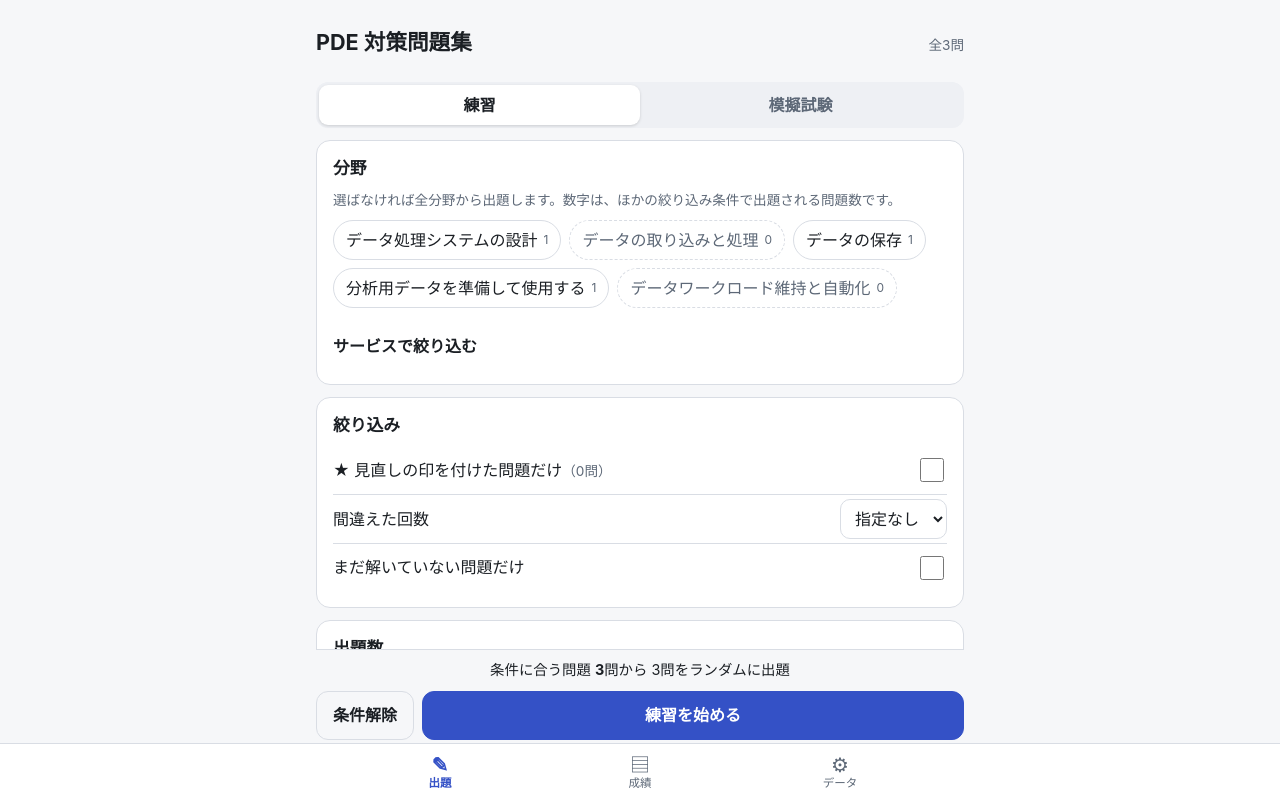
it: 練習モード › 前の問題に戻ると、回答済みの結果と解説をもう一度見られる
The width and height of the screenshot is (1280, 800).
Click the button "練習を始める" at x=693, y=715, box [422,691,964,740]
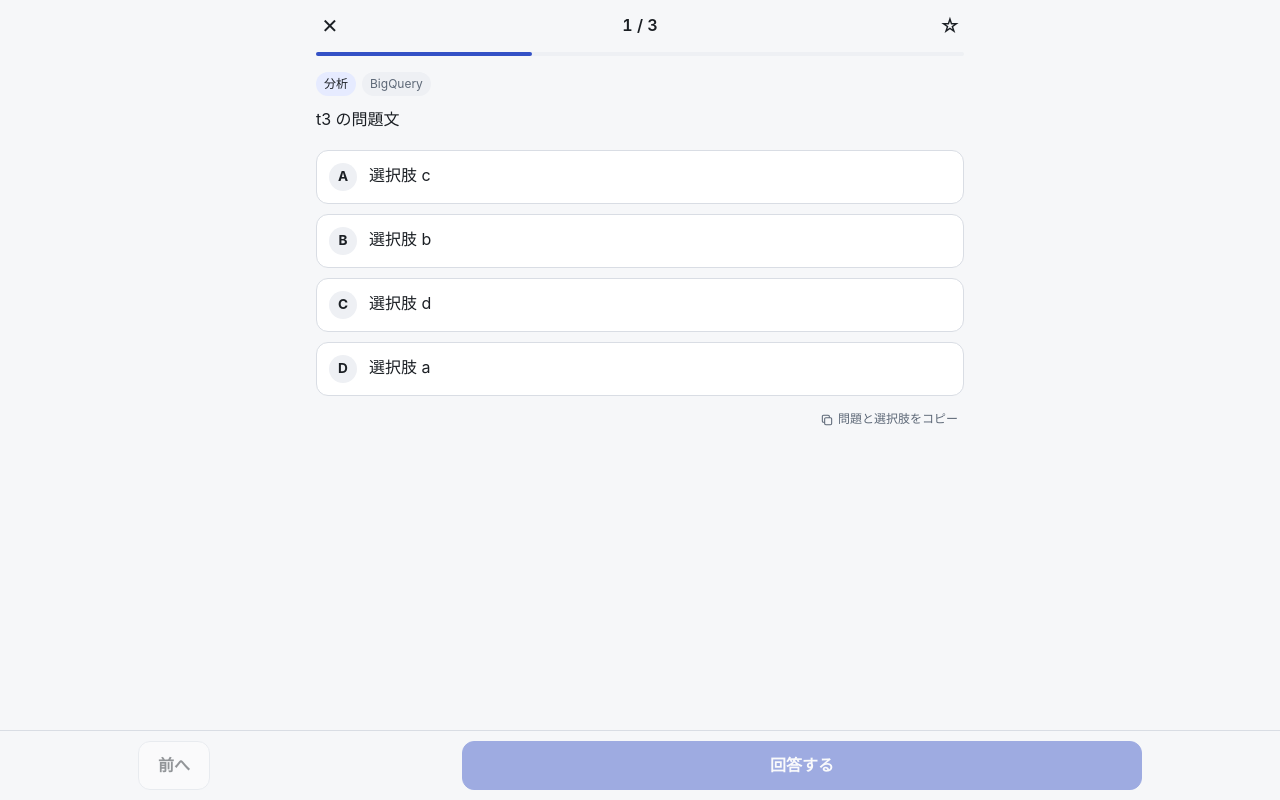
Expected: the button "前へ" is disabled, [138,741,210,790]
Click the button "D 選択肢 a" at x=400, y=367, box [316,342,964,396]
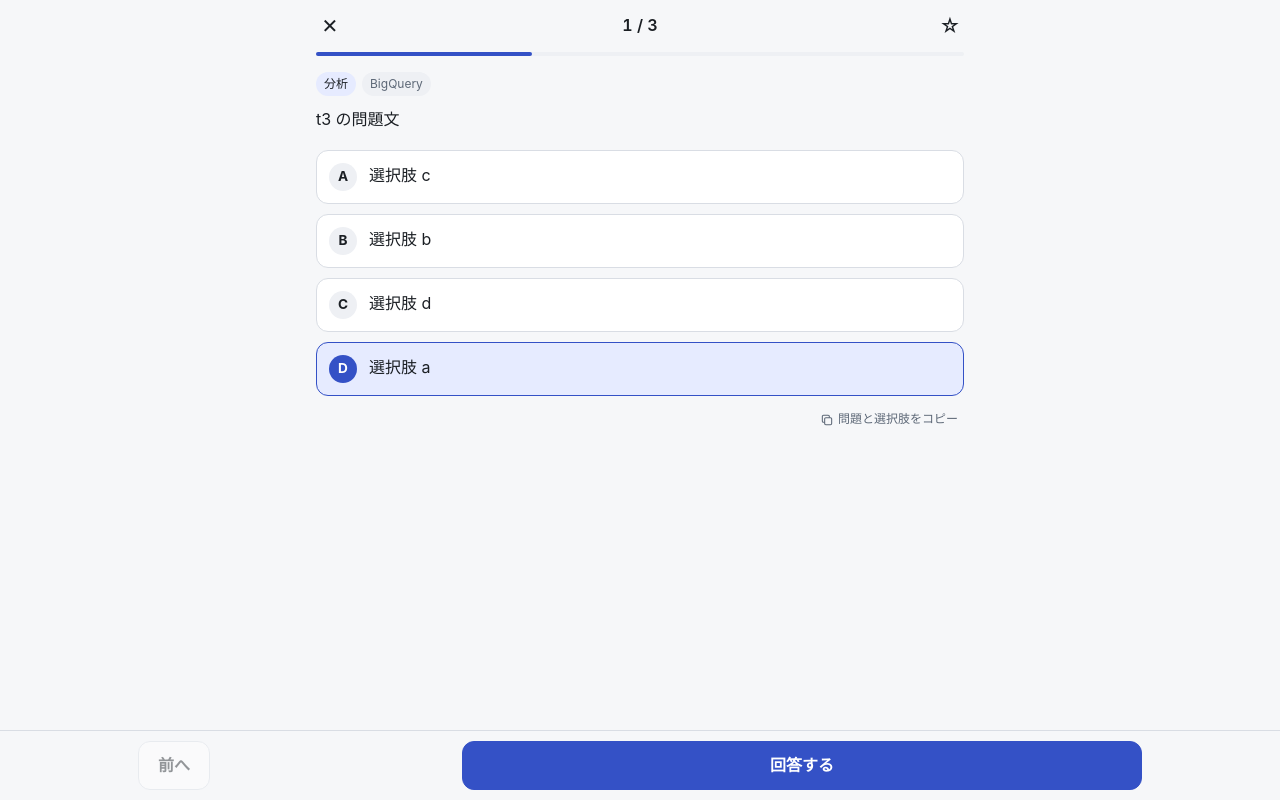
Click the button "回答する" at x=802, y=765, box [462,741,1142,790]
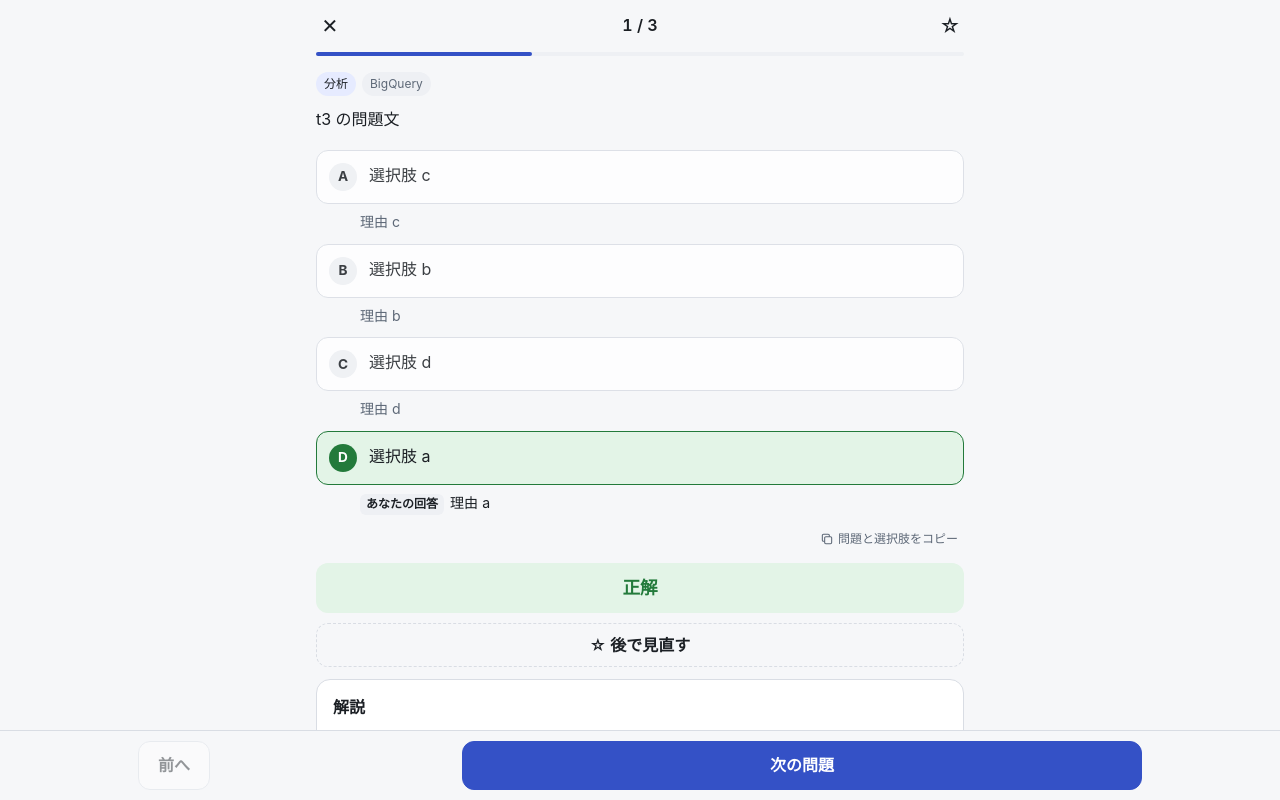
Click the button "次の問題" at x=802, y=765, box [462,741,1142,790]
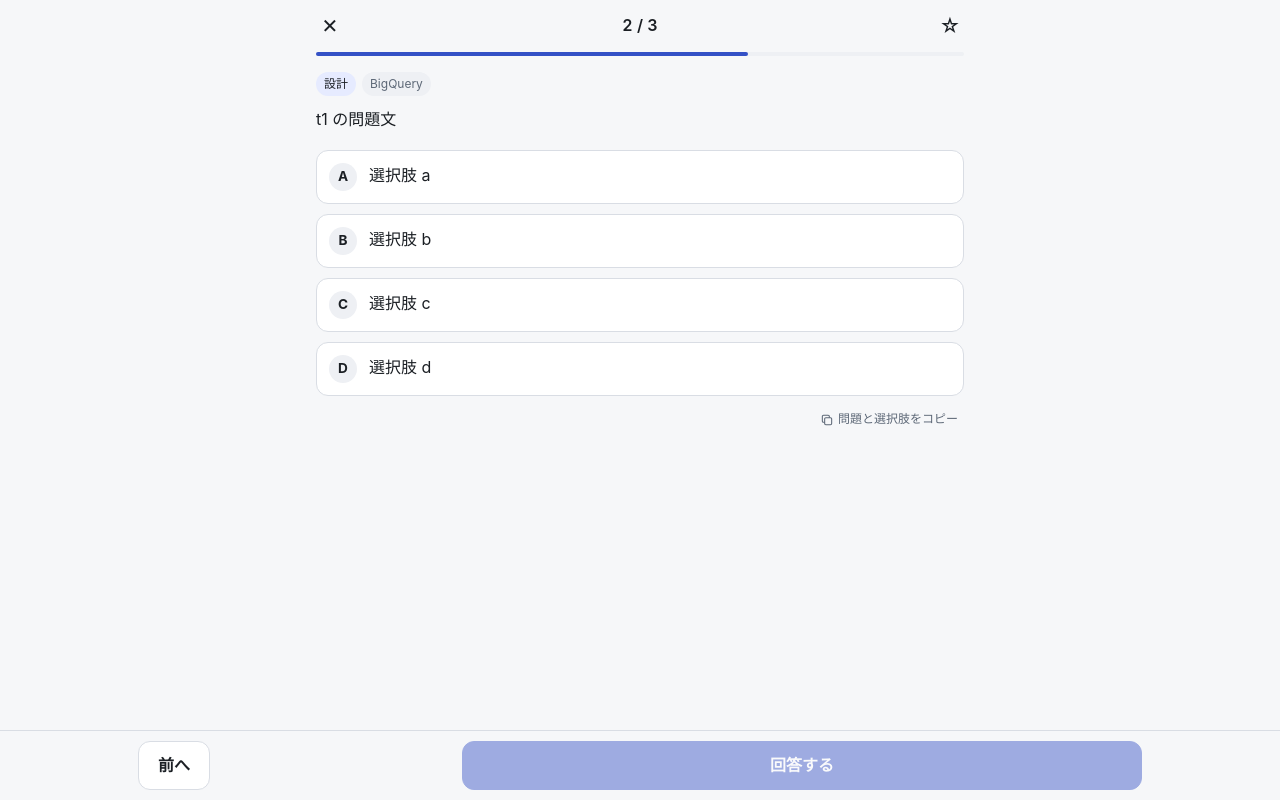
Expected: the text "2 / 3" is shown, [622,12,658,40]
Click the button "前へ" at x=174, y=765, box [138,741,210,790]
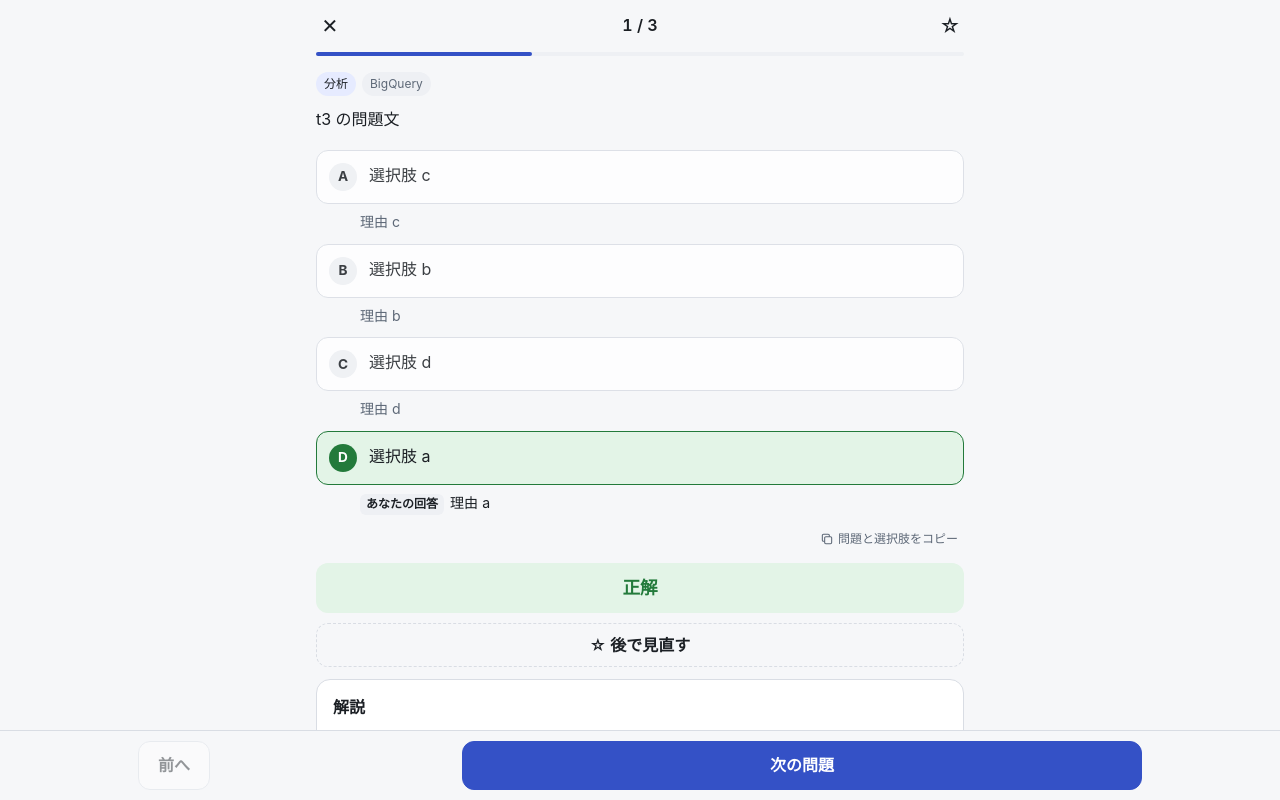
Expected: the text "1 / 3" is shown, [622,12,658,40]
Expected: the message reads "正解", [622,577,658,598]
Click the button "次の問題" at x=802, y=765, box [462,741,1142,790]
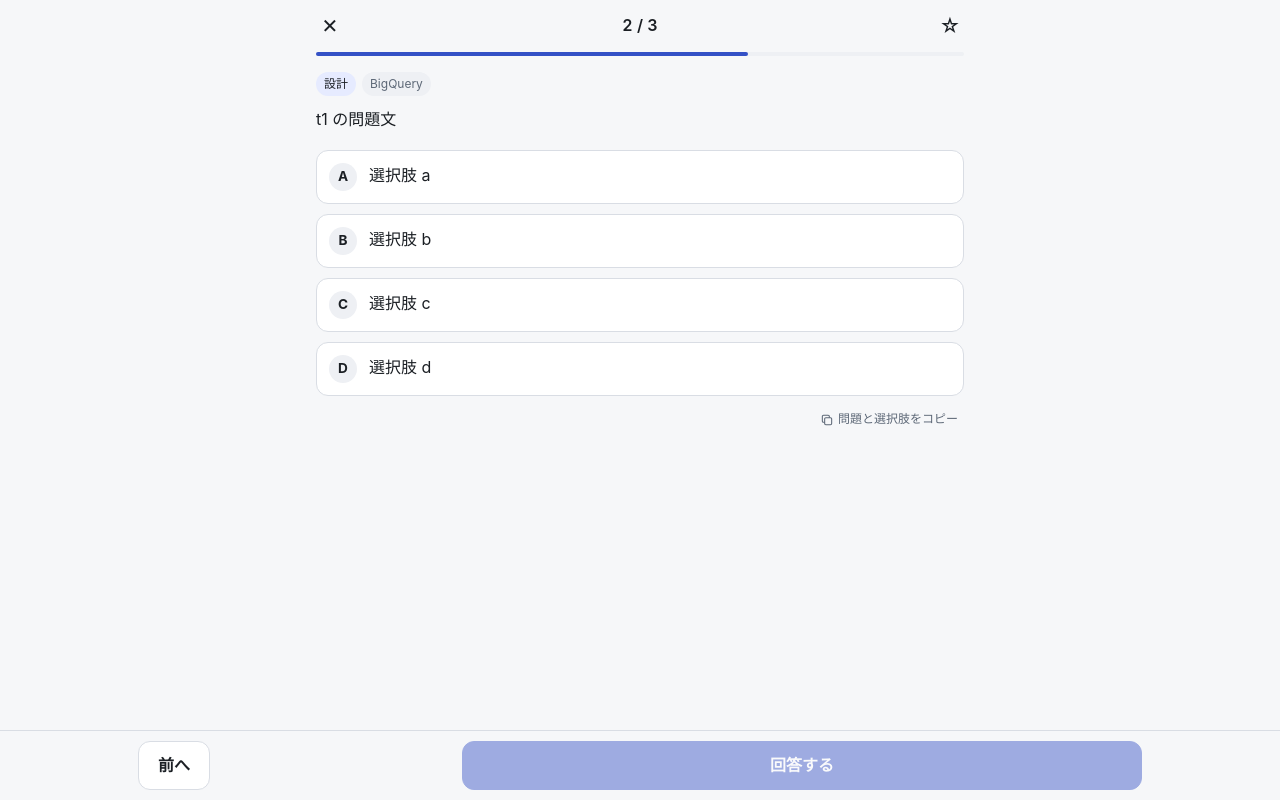
Expected: the text "2 / 3" is shown, [622,12,658,40]
Expected: the button "回答する" is shown, [462,741,1142,790]
